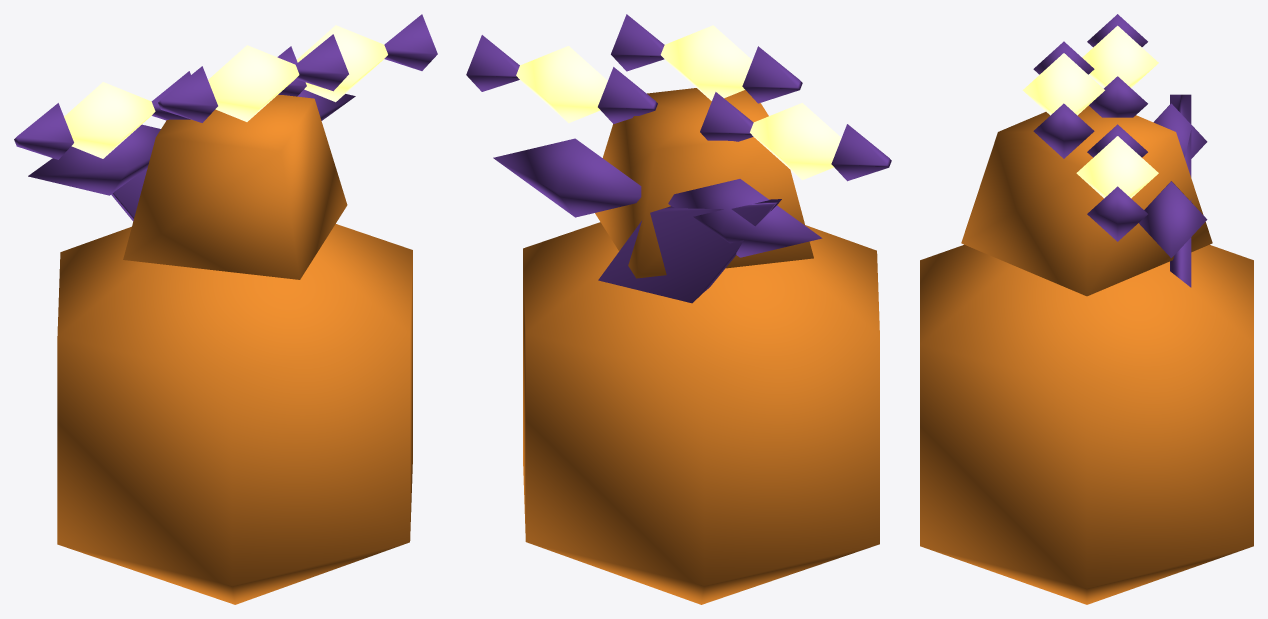
Rendered from candy_bag_low.glb.
The picture shows the model from 3 angles, left to right: view 1: azimuth 30°, elevation 25°; view 2: azimuth 150°, elevation 25°; view 3: azimuth 270°, elevation 25°; orthographic projection. The views are drawn at different scales.
Bounding box in the file's own units: 0.2961 × 0.397 × 0.2175.
